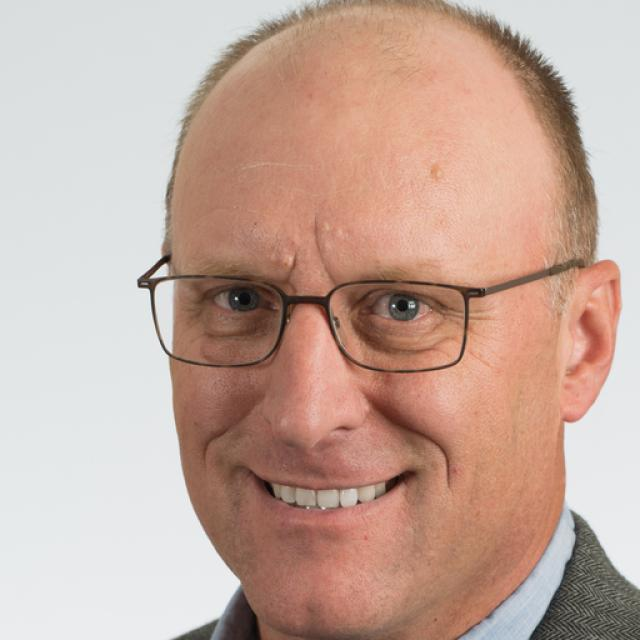Acne: (312, 211, 350, 245), (270, 236, 300, 273), (423, 156, 453, 187)
Wrinkle: (365, 400, 455, 493), (195, 395, 266, 476)
